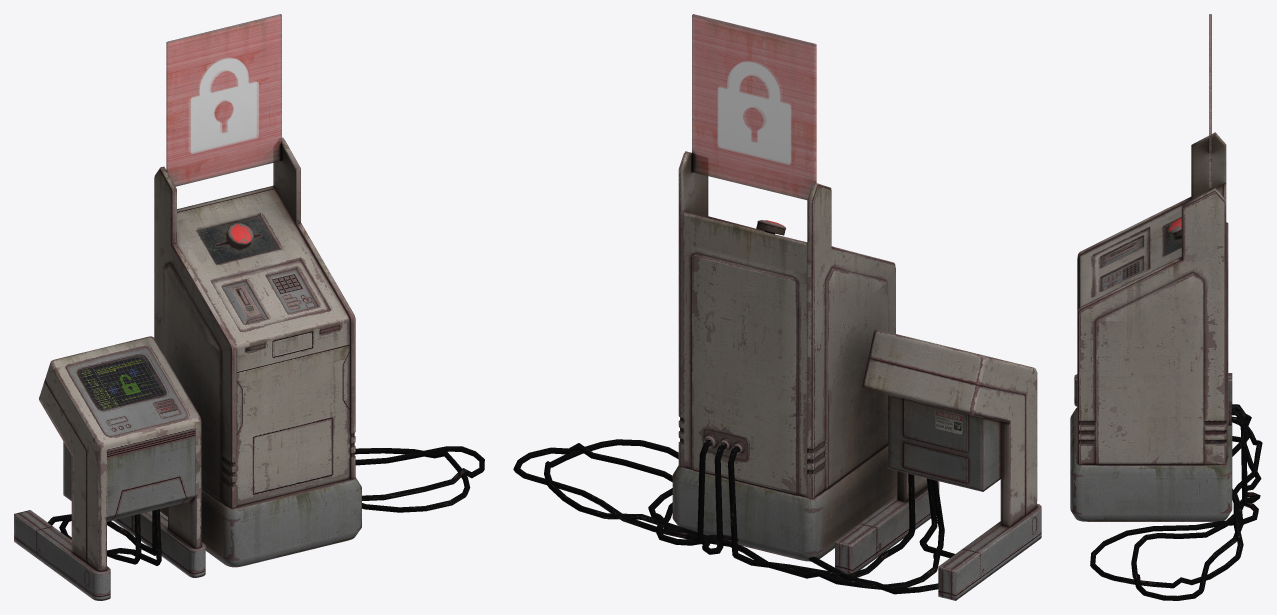
Rendered from prop_switchUnit.fbx.
The picture shows the model from 3 angles, left to right: view 1: azimuth 30°, elevation 25°; view 2: azimuth 150°, elevation 25°; view 3: azimuth 270°, elevation 25°; orthographic projection. The views are drawn at different scales.
Visible parts, largest first — view 1: prop_switchUnit_base_001, prop_switchUnit_screen_001; view 2: prop_switchUnit_base_001, prop_switchUnit_screen_001; view 3: prop_switchUnit_base_001, prop_switchUnit_screen_001.
Part boxes in pixels (x1,y1,x2,y2): prop_switchUnit_base_001: (14, 137, 484, 600); prop_switchUnit_screen_001: (166, 14, 281, 186); prop_switchUnit_base_001: (513, 151, 1041, 600); prop_switchUnit_screen_001: (692, 14, 816, 199); prop_switchUnit_base_001: (1070, 132, 1262, 600); prop_switchUnit_screen_001: (1209, 14, 1211, 190).
Size of the model in its own units: 209 by 217 by 83.86.
